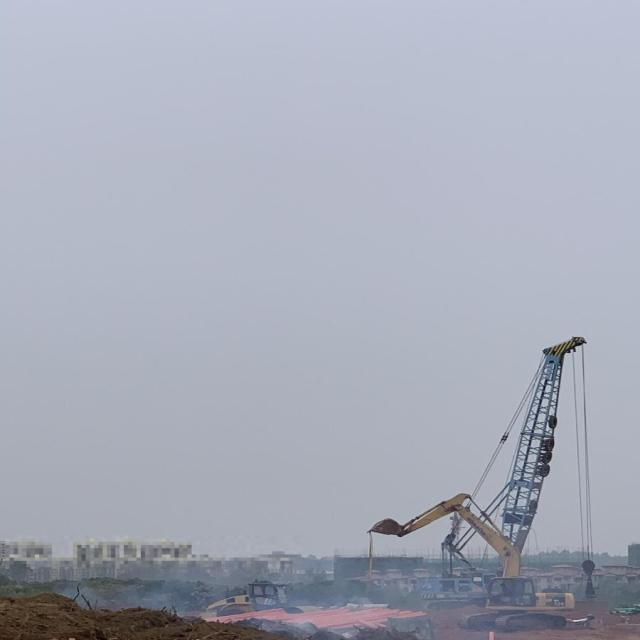crane: (376, 322, 595, 624)
excavator: (369, 491, 578, 636)
